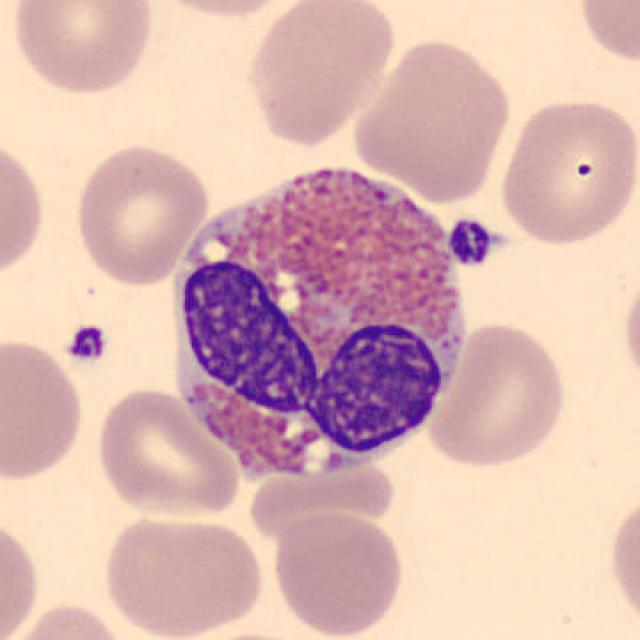Eosinophil: (158, 139, 486, 492)
Platelets: (446, 215, 498, 270), (64, 321, 110, 367)
RBC: (350, 34, 514, 205), (240, 0, 398, 146), (425, 319, 571, 471), (97, 509, 266, 640), (496, 94, 638, 248), (90, 384, 244, 522), (71, 140, 212, 288), (267, 508, 409, 638), (7, 0, 158, 99), (0, 331, 87, 485), (247, 462, 402, 538), (0, 132, 50, 286), (1, 597, 131, 640), (0, 513, 43, 640), (604, 488, 640, 633), (570, 0, 640, 69), (137, 0, 304, 19), (618, 259, 640, 400), (167, 627, 327, 640)
